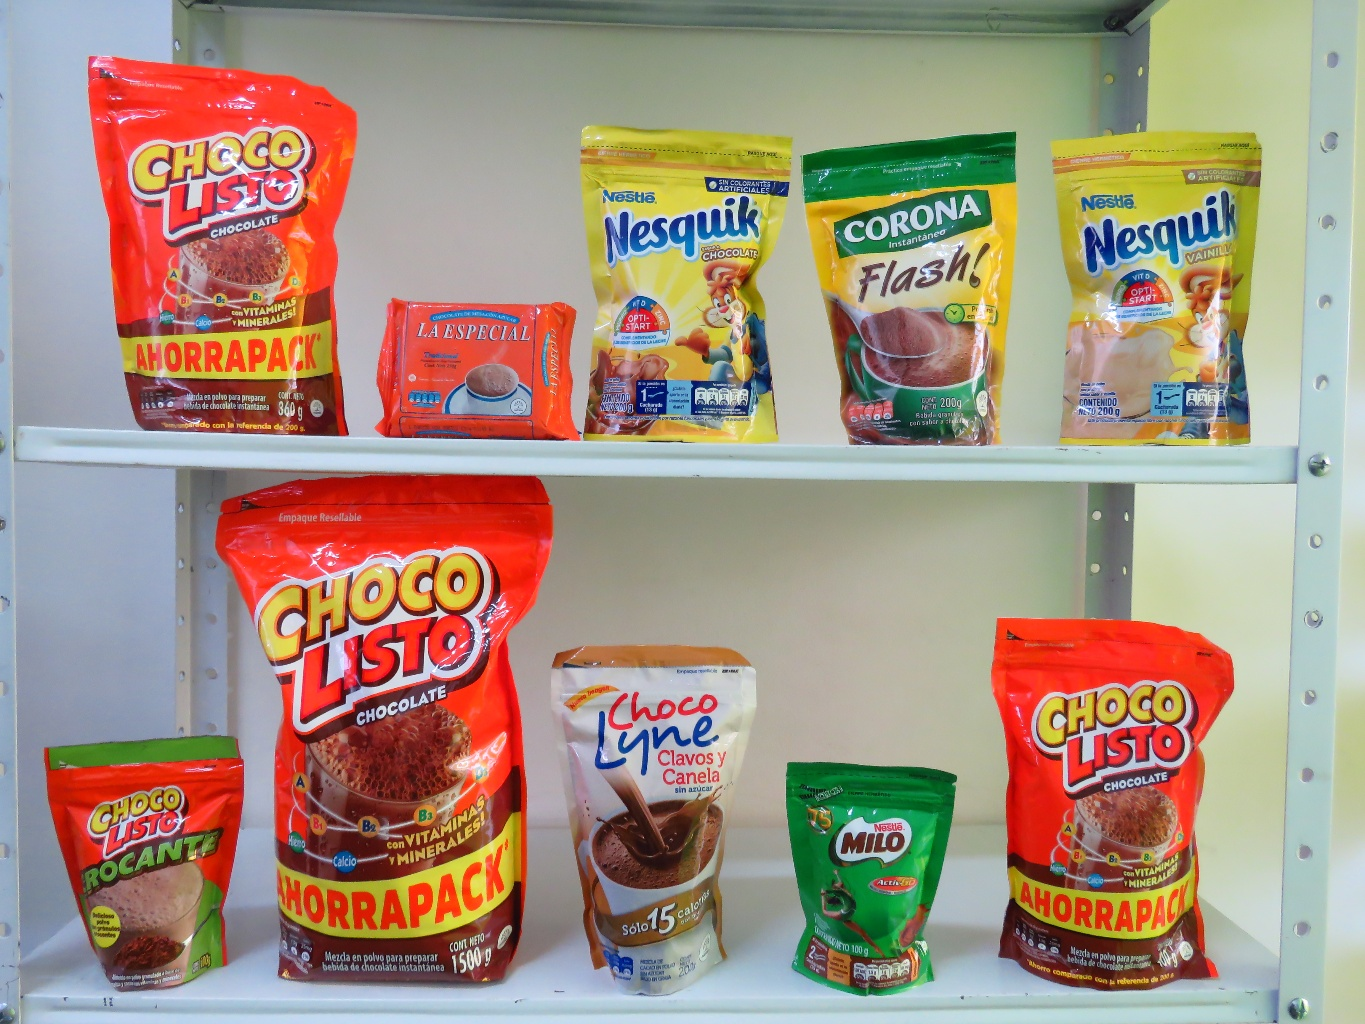COL0170102DYP10000: (40, 735, 236, 986)
COL0170103DYP1,500: (221, 451, 548, 995)
COL0170103DYP36000: (77, 40, 378, 452)
COL0170103DYP40000: (989, 612, 1249, 992)
COL0170203DYP10000: (765, 748, 965, 996)
COL0170303DYP20000: (575, 123, 807, 450)
COL0170306DYP20000: (1044, 120, 1259, 440)
